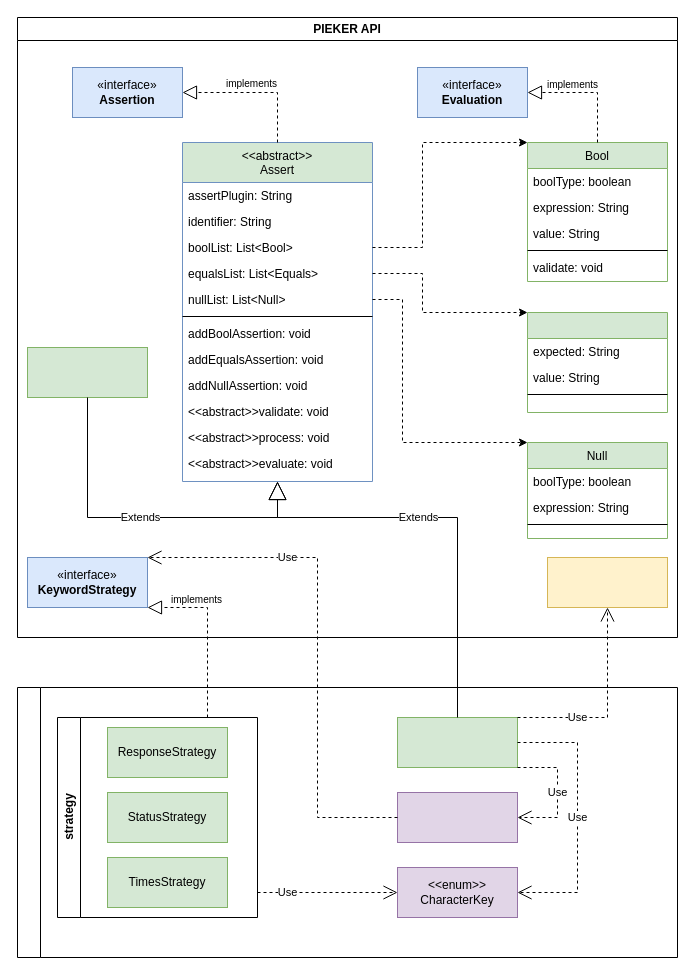
Some shapes in this 695 by 975 pixel diagram are drawn without their labels. The shapes that lost their labels are listed below. From the top down, each one's box as (x1, y1, x2, y2) in pixels, then its label:
(26, 346, 148, 398): StubAssert
(526, 312, 668, 412): Equals
(546, 556, 668, 608): ValidationException
(396, 716, 518, 768): LogAssert
(16, 686, 678, 958): Plugin LogAssert
(396, 792, 518, 842): <<enum>> Keyword
